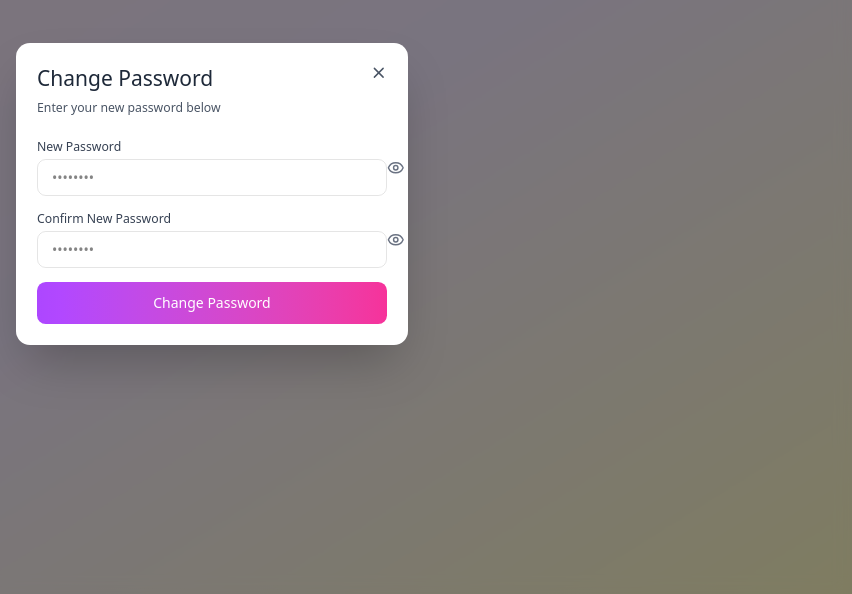
Test case: PasswordChangeModal › should show error when password is too short
Expected: the heading "Change Password" is shown, [37,64,213,92]
Fill in short password (HTML5 validation will prevent submission, so we need to bypass it)
Type "12345" into the password field labelled "New Password" at (212, 177), box [37,159,387,196]
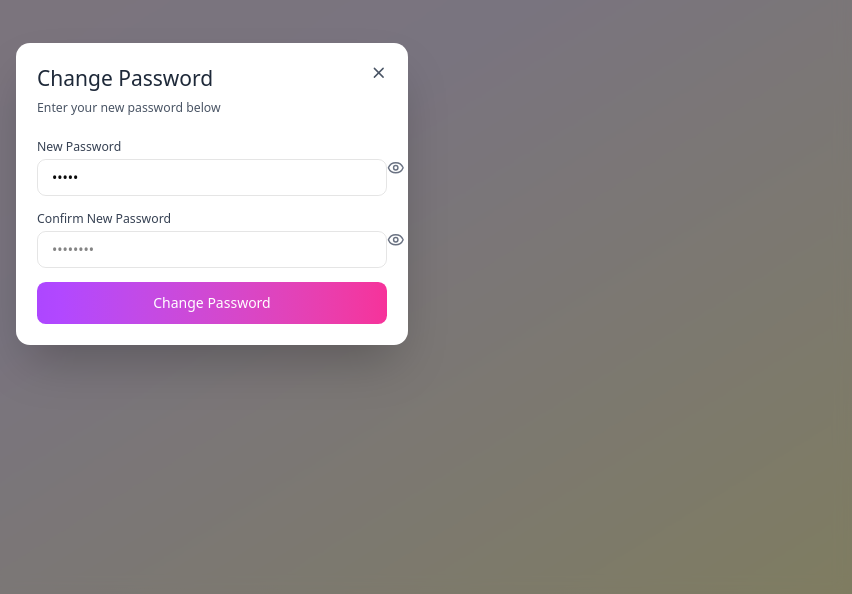
Type "12345" into the password field labelled "Confirm New Password" at (212, 249), box [37,231,387,268]
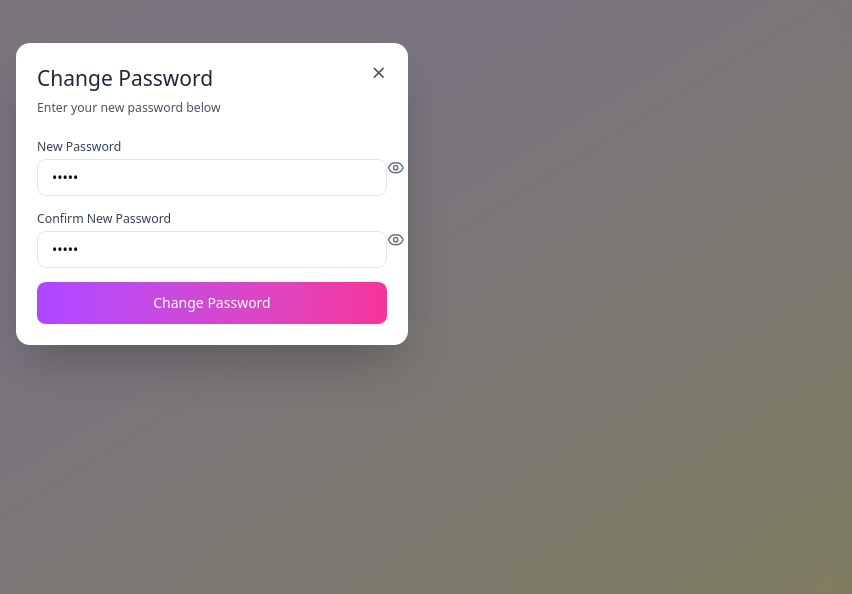
Click the button "Change Password" at (212, 303), box [37,282,387,324]
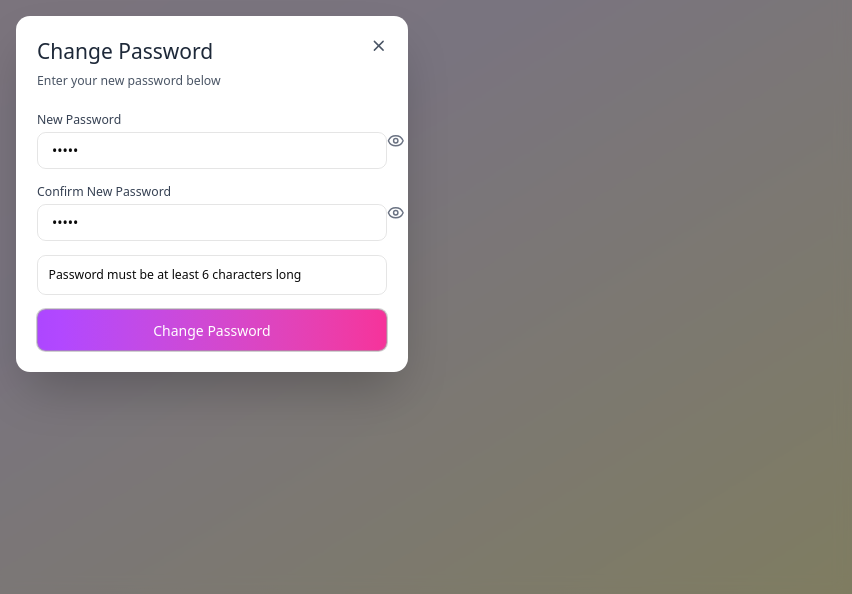
Now the text "Password must be at least 6 characters long" is shown, box [37,254,387,295]
